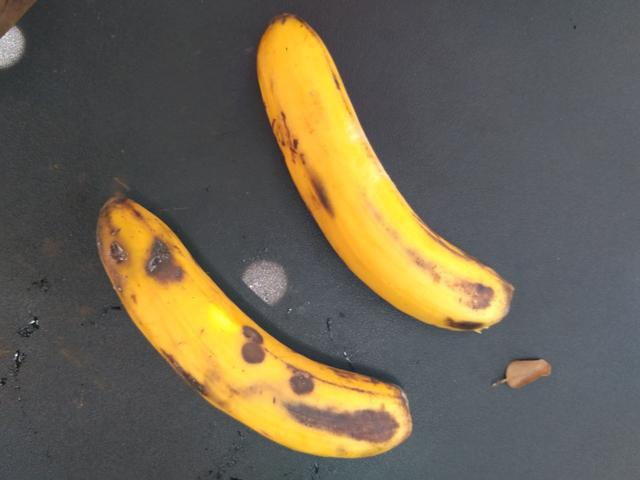overripe: (230, 3, 522, 339), (78, 197, 396, 461)
